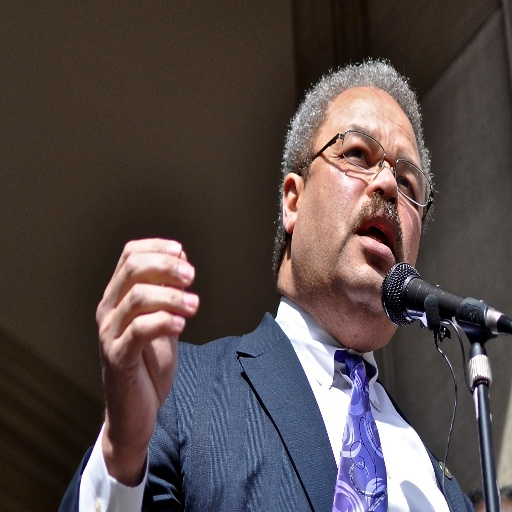hand: (74, 248, 203, 478)
